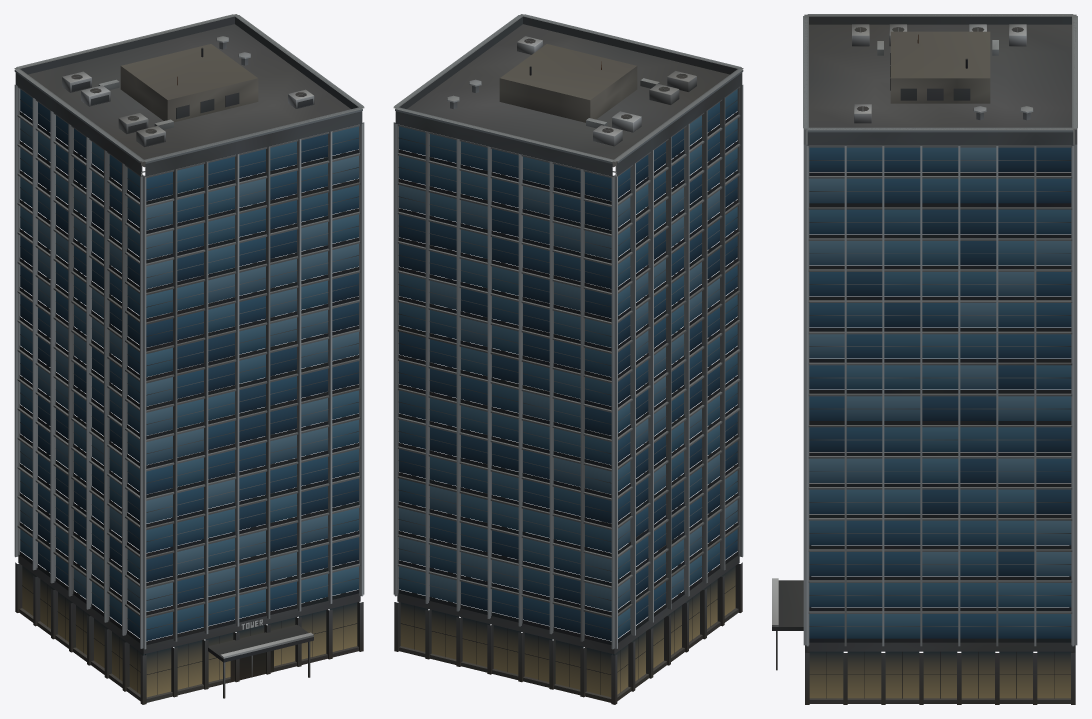
File: building_b.glb
The picture shows the model from 3 angles, left to right: view 1: azimuth 30°, elevation 25°; view 2: azimuth 150°, elevation 25°; view 3: azimuth 270°, elevation 25°; orthographic projection. The views are drawn at different scales.
Visible parts, largest first — view 1: Building; view 2: Building; view 3: Building.
Part boxes in pixels (x1=…): Building: x1=14, y1=14, x2=364, y2=704; Building: x1=393, y1=14, x2=743, y2=704; Building: x1=772, y1=14, x2=1077, y2=704.
Size of the model in its own units: 24.84 by 60 by 27.62.
